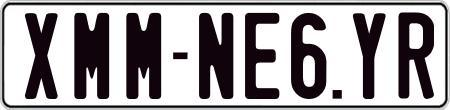6: (290, 12, 328, 98)
E: (244, 12, 281, 100)
M: (124, 12, 164, 99), (71, 13, 109, 104)
N: (196, 13, 233, 104)
R: (398, 12, 433, 99)
X: (23, 11, 58, 102)
Y: (350, 13, 388, 103)
